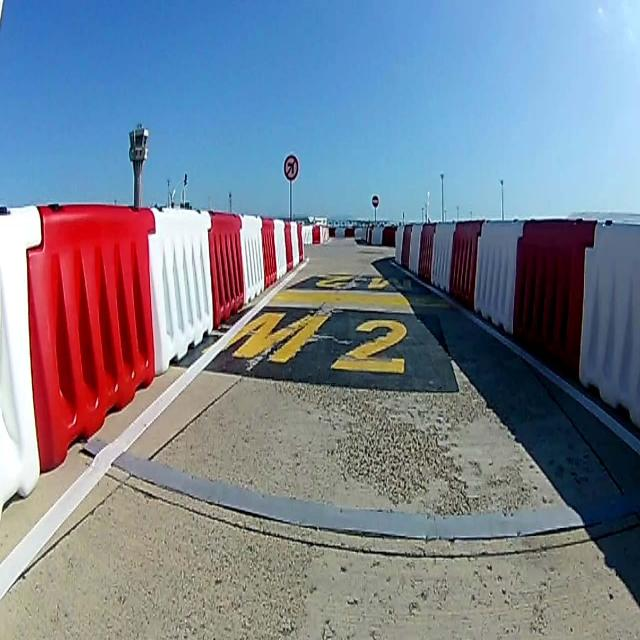soladonulmez: (282, 151, 300, 181)
